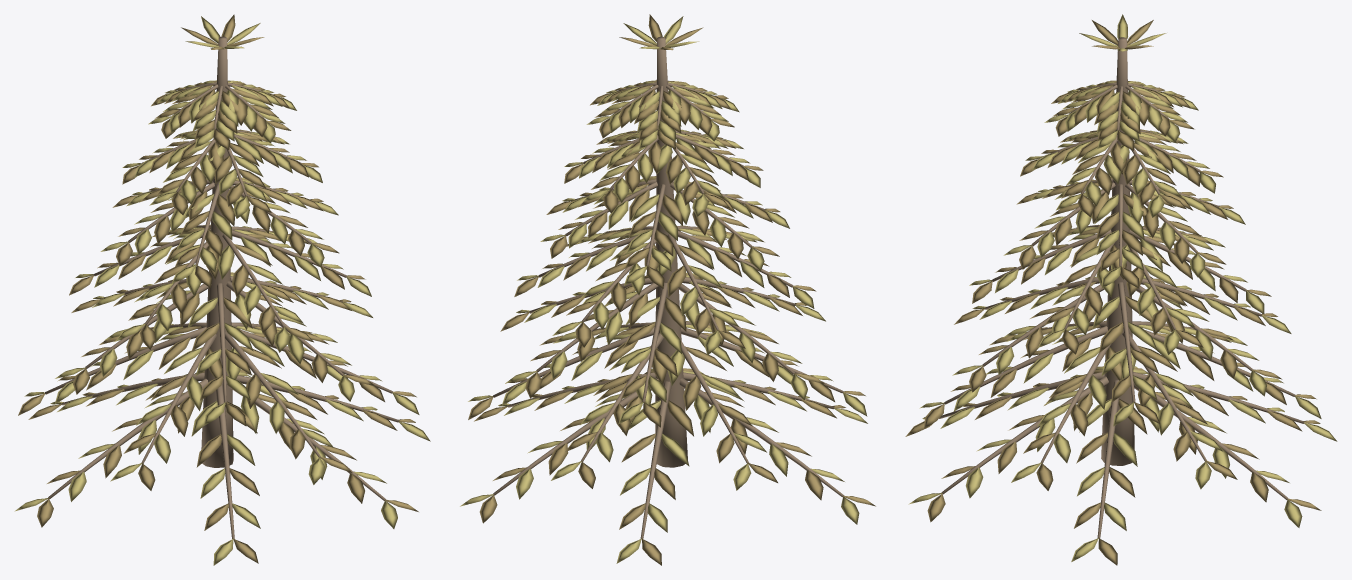
File: SM_PlantPineWilted.fbx
3 renders of one model, left to right at view 1: azimuth 30°, elevation 25°; view 2: azimuth 150°, elevation 25°; view 3: azimuth 270°, elevation 25°, orthographic.
Parts seen in each view (by area): view 1: PlantPineWilted; view 2: PlantPineWilted; view 3: PlantPineWilted.
Boxes of the visible parts, box(x1,y1,x2,y2) form: PlantPineWilted: box(14, 14, 430, 565); PlantPineWilted: box(460, 14, 875, 565); PlantPineWilted: box(905, 14, 1337, 565).
Bounding box in the file's own units: 2.29 × 2.44 × 2.18.
